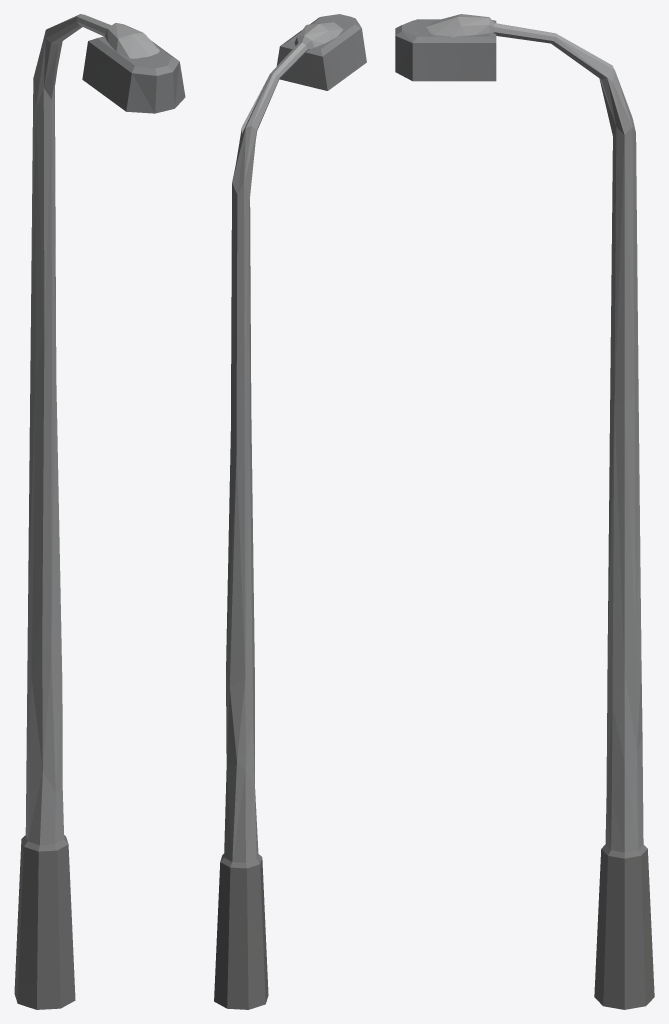
The model's file is lamp_1.obj.
3 renders of one model, left to right at view 1: azimuth 30°, elevation 25°; view 2: azimuth 150°, elevation 25°; view 3: azimuth 270°, elevation 25°, orthographic. The views are drawn at different scales.
Parts seen in each view (by area): view 1: lamp_1_Mesh; view 2: lamp_1_Mesh; view 3: lamp_1_Mesh.
Part boxes in pixels (x1,y1,x2,y2): lamp_1_Mesh: (14, 14, 185, 1009); lamp_1_Mesh: (214, 14, 366, 1009); lamp_1_Mesh: (395, 14, 654, 1009).
Bounding box in the file's own units: 0.3855 × 6.38 × 1.53.
